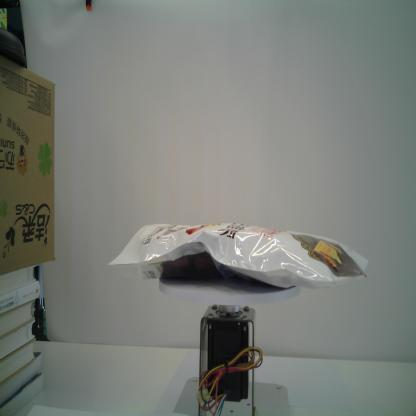Dried Food: (106, 221, 370, 292)
